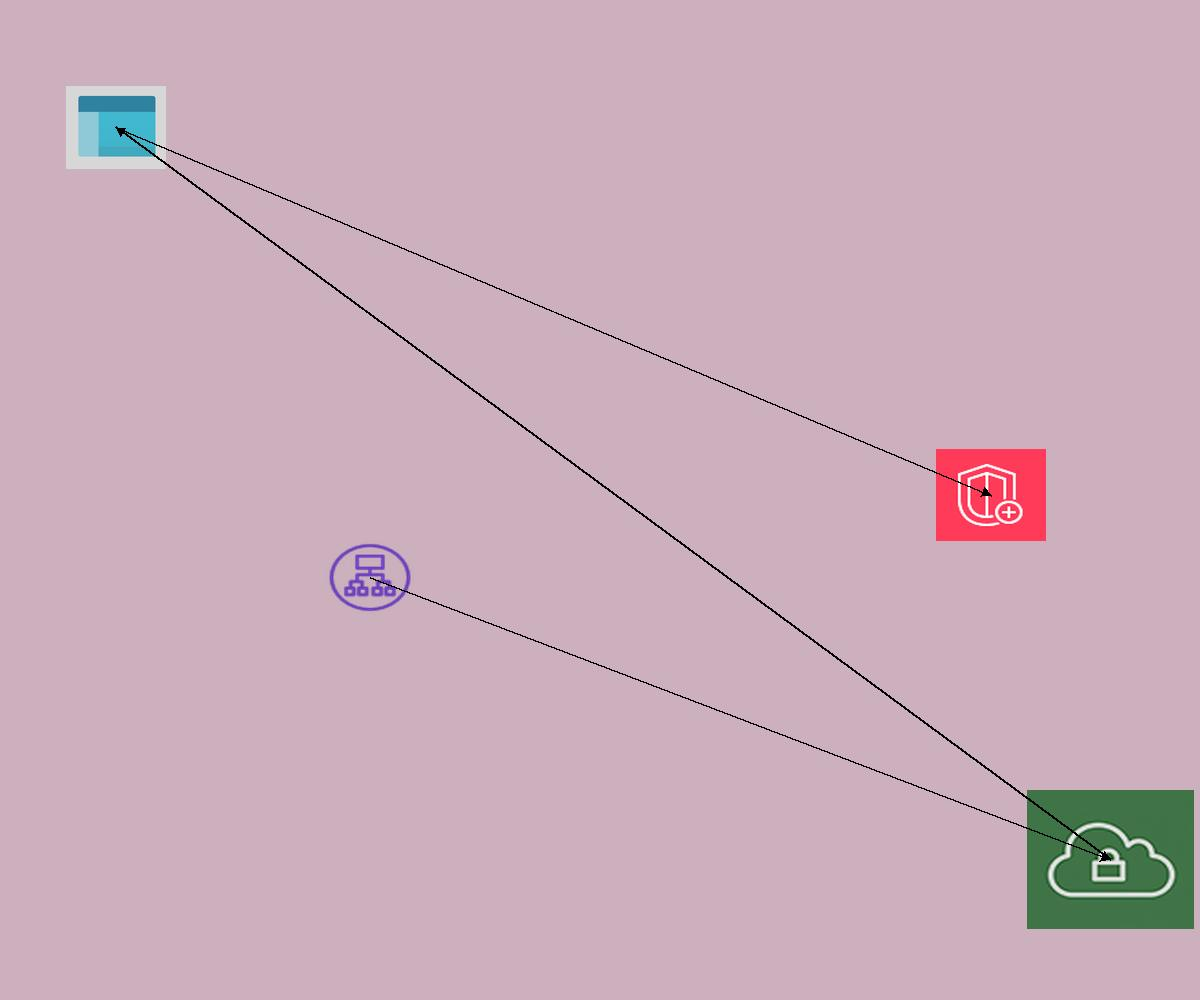AWS-Private_vpc: (1027, 790, 1194, 929)
AWS-Res_Elastic-Load-Balancing_Application-Load-Balancer: (326, 541, 414, 614)
AWS-Shield: (936, 449, 1046, 541)
Azure_management-portal: (66, 86, 166, 169)
